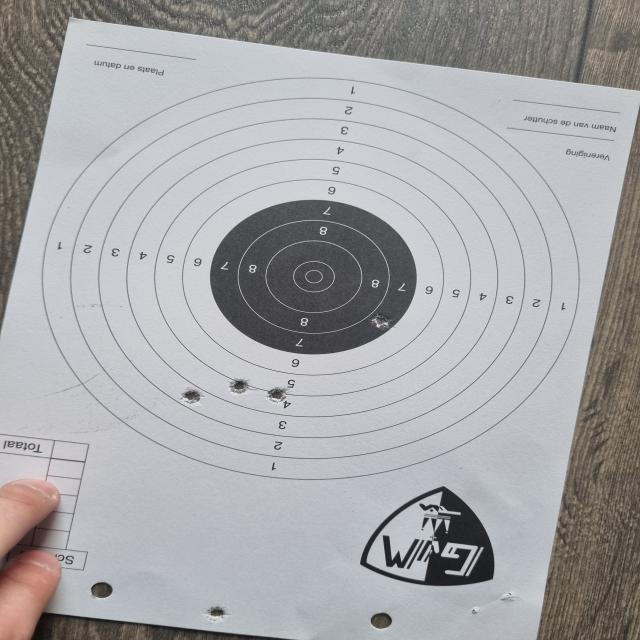0: (205, 606, 230, 621)
3: (181, 388, 201, 404)
5: (230, 378, 258, 394), (267, 388, 291, 402)
7: (370, 314, 396, 329)
Target: (41, 76, 583, 480)
black_contour: (210, 199, 418, 354)
